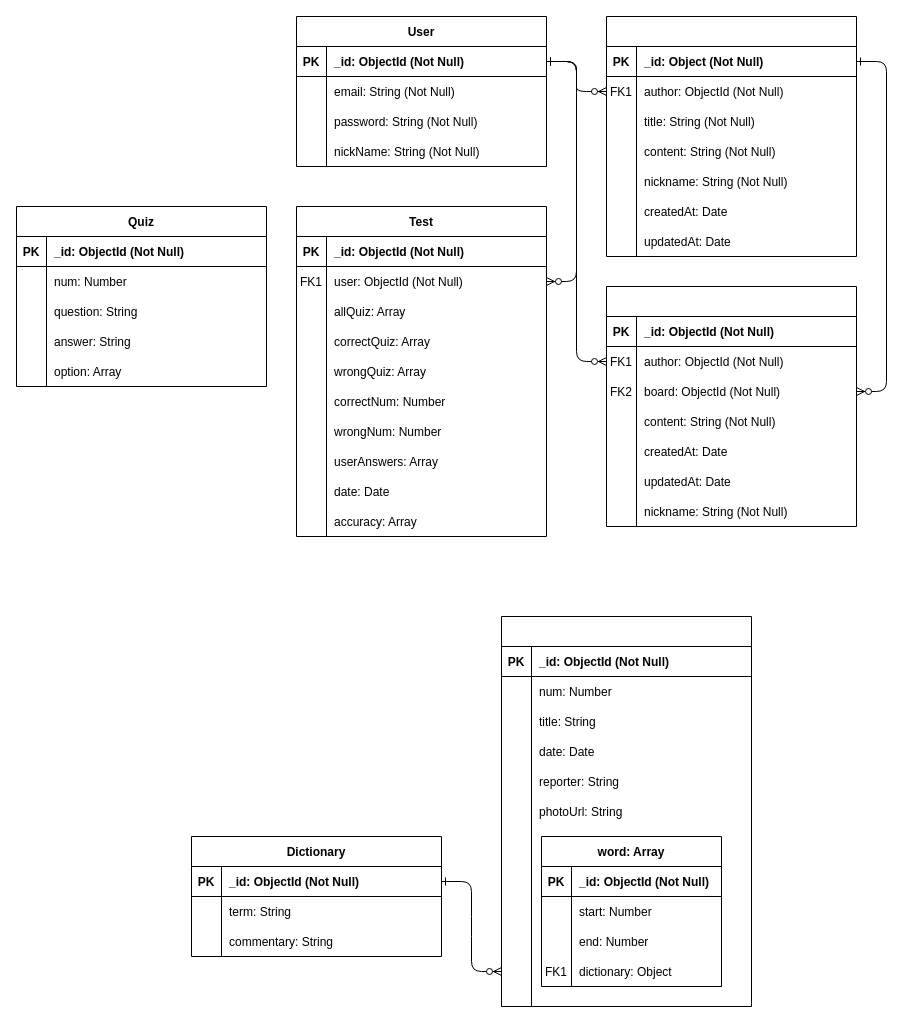
Some shapes in this 903 by 1023 pixel diagram are drawn without their labels. Here are the shapes that lost their labels. From the top down, the box of each, then its label:
(606, 16, 856, 256): Board
(606, 286, 856, 526): Comment
(500, 616, 752, 1006): Article
